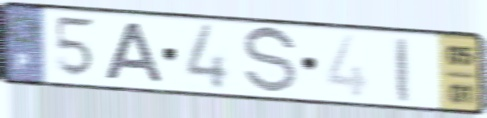4: (182, 22, 234, 93), (323, 32, 371, 101)
5: (52, 13, 99, 82)
A: (101, 20, 168, 85)
I: (392, 34, 413, 105)
S: (240, 24, 300, 98)
